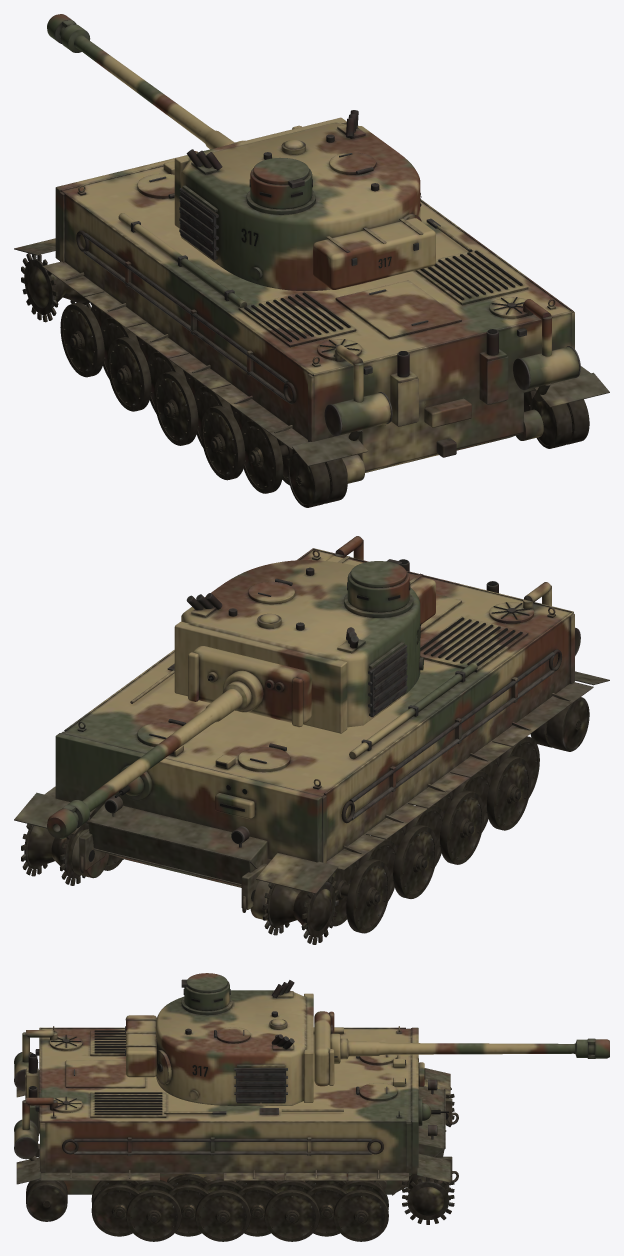
File: tiger.glb
3 views of the same model, one above another, from view 1: azimuth 30°, elevation 25°; view 2: azimuth 150°, elevation 25°; view 3: azimuth 270°, elevation 25° (orthographic). The views are drawn at different scales.
Visible parts, largest first — view 1: hull, turret_shell, gun, wheel_L_4, wheel_L_0, wheel_L_2, wheel_L_6, wheel_L_7, wheel_L_9, wheel_L_8, wheel_R_9, wheel_L_1 (+2 smaller); view 2: hull, turret_shell, gun, wheel_L_0, wheel_L_8, wheel_L_2, wheel_L_6, wheel_L_4, wheel_R_8, wheel_L_9, wheel_L_7, wheel_L_3 (+2 smaller); view 3: hull, turret_shell, gun, wheel_R_0, wheel_R_4, wheel_R_2, wheel_R_6, wheel_R_7, wheel_R_8, wheel_R_9, wheel_R_5, wheel_R_3 (+1 smaller).
Boxes of the visible parts, <box> form: hull: <box>14,158,609,483</box>; turret_shell: <box>174,110,435,290</box>; gun: <box>47,14,301,152</box>; wheel_L_4: <box>154,371,221,445</box>; wheel_L_0: <box>60,302,110,377</box>; wheel_L_2: <box>107,337,176,411</box>; wheel_L_6: <box>201,405,251,480</box>; wheel_L_7: <box>241,420,296,493</box>; wheel_L_9: <box>288,453,347,507</box>; wheel_L_8: <box>21,253,96,322</box>; wheel_R_9: <box>529,397,589,448</box>; wheel_L_1: <box>100,317,144,379</box>; hull: <box>14,536,609,920</box>; turret_shell: <box>174,556,435,733</box>; gun: <box>47,646,311,838</box>; wheel_L_0: <box>326,859,390,933</box>; wheel_L_8: <box>262,876,338,944</box>; wheel_L_2: <box>372,824,437,898</box>; wheel_L_6: <box>461,756,530,830</box>; wheel_L_4: <box>416,790,484,864</box>; wheel_R_8: <box>21,817,90,885</box>; wheel_L_9: <box>530,697,589,751</box>; wheel_L_7: <box>493,736,539,798</box>; wheel_L_3: <box>404,804,444,866</box>; hull: <box>14,1026,458,1195</box>; turret_shell: <box>125,973,313,1105</box>; gun: <box>314,1011,609,1086</box>; wheel_R_0: <box>333,1180,388,1241</box>; wheel_R_4: <box>195,1179,250,1241</box>; wheel_R_2: <box>264,1180,319,1241</box>; wheel_R_6: <box>126,1180,181,1241</box>; wheel_R_7: <box>91,1180,139,1236</box>; wheel_R_8: <box>402,1174,454,1224</box>; wheel_R_9: <box>26,1179,67,1221</box>; wheel_R_5: <box>168,1174,208,1236</box>; wheel_R_3: <box>237,1180,277,1236</box>.
Size of what is drawn, in the model's own units: 3.78 by 3.16 by 8.63.
Materials: 1 (1 with a texture image).
